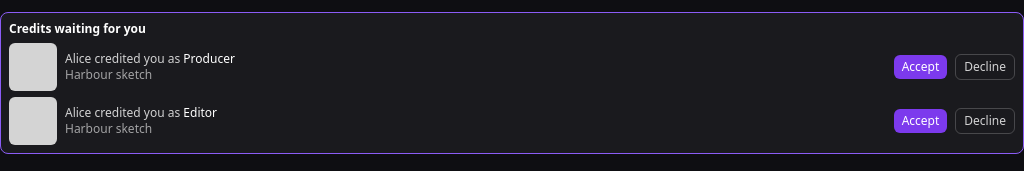
Test: CreditRequests › lists who asked, for which piece and as what, and accepting tells the page
Expected: the element "Credits waiting for you" shows "Harbour sketch", [65,66,152,83]
Click the button "Accept" in the row of "Producer": (921, 67) [894,55,947,79]
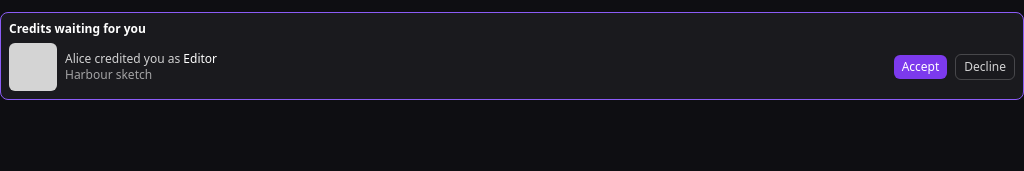
Expected: the text "Editor" is shown, [183,50,217,67]
Expected: the text "as Producer" is gone
